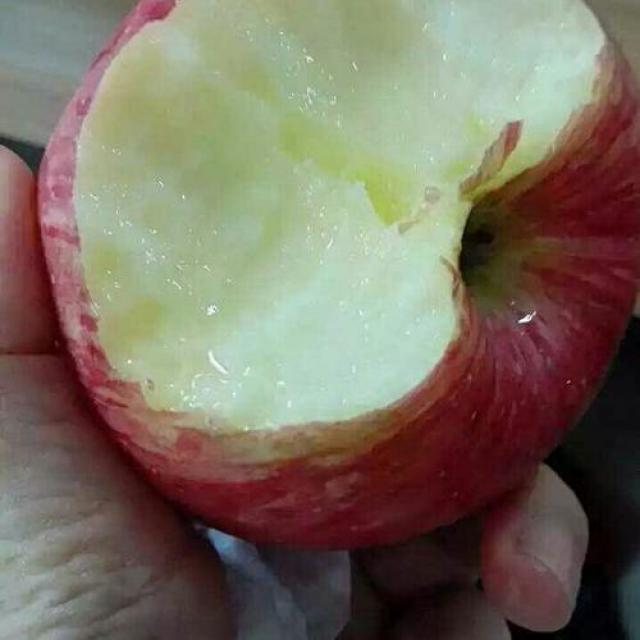Rotten: (29, 0, 640, 547)
